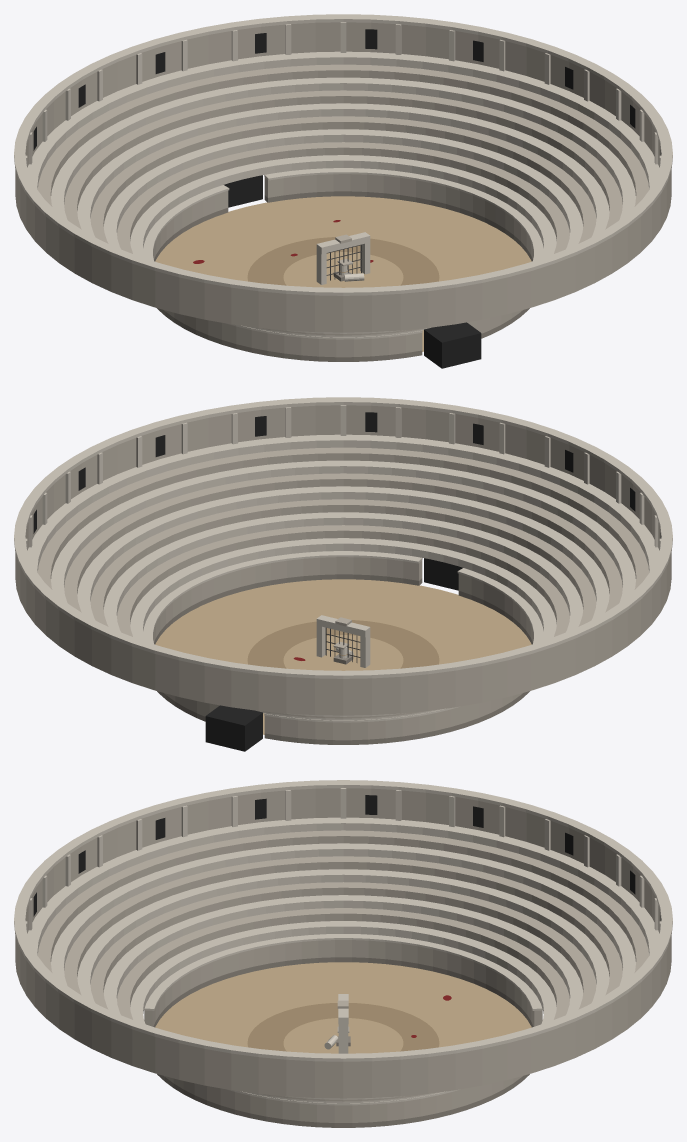
File: arena.glb
3 renders of one model, top to bottom at view 1: azimuth 30°, elevation 25°; view 2: azimuth 150°, elevation 25°; view 3: azimuth 270°, elevation 25°, orthographic.
Visible parts, largest first — view 1: arena_bowl, arena_gate; view 2: arena_bowl, arena_gate; view 3: arena_bowl, arena_gate.
Part boxes in pixels (box(x1,y1,x2,y2)): arena_bowl: box(14, 14, 672, 368); arena_gate: box(316, 232, 370, 284); arena_bowl: box(14, 397, 672, 751); arena_gate: box(316, 615, 370, 667); arena_bowl: box(14, 780, 672, 1127); arena_gate: box(337, 994, 348, 1053).
Size of the model in its own units: 110 by 25.85 by 110.
